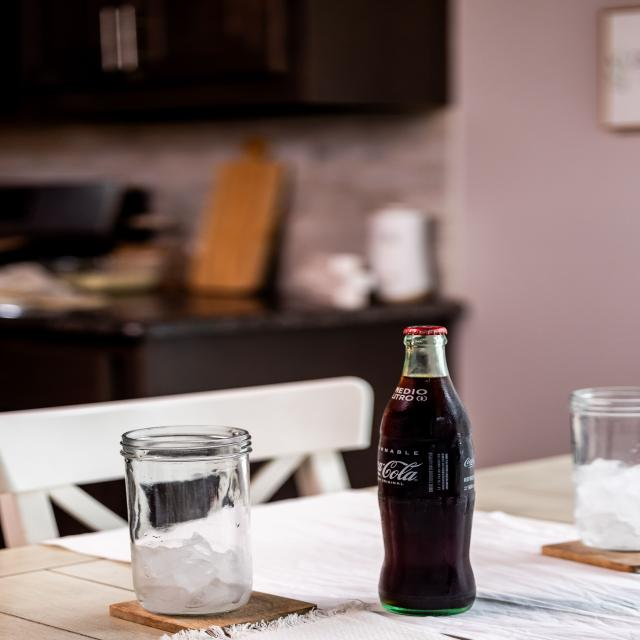Bottle: (378, 326, 475, 615)
